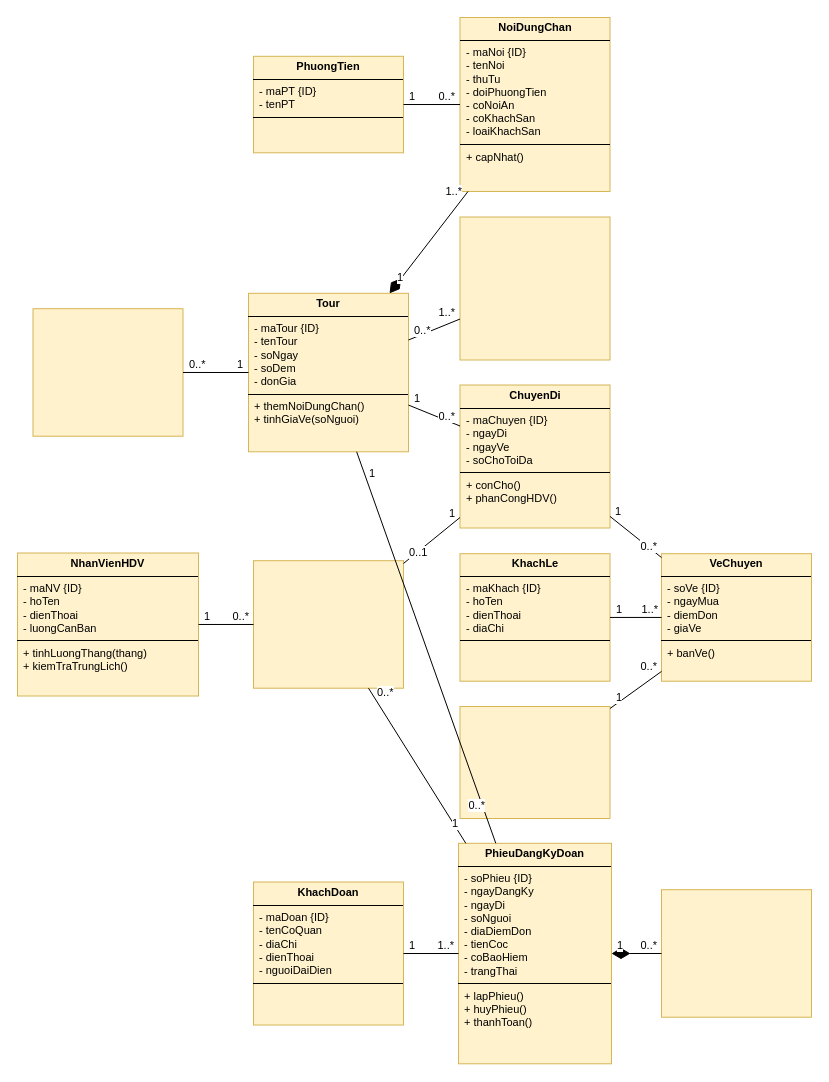
Image size: 829x1082. Some labels were removed from this diagram. Here are the shapes that lost their labels. From the top down, the centre of each, then its label:
pixel 534 288: DiemThamQuan - maDiem {ID} - tenDiem - diaDiem - noiDung - yNghia
pixel 107 372: PhieuKhaoSat - soPhieuKS {ID} - ngayGui - danhGia - gopY + ghiNhan()
pixel 328 624: PhanCong - maPC {ID} - ngayBatDau - ngayKetThuc - luongTour
pixel 534 762: DiemBanVe - maDiemBan {ID} - tenDiemBan - diaChi
pixel 736 953: ThanhVienDoan - maTV {ID} - hoTen - ngaySinh - cmnd
